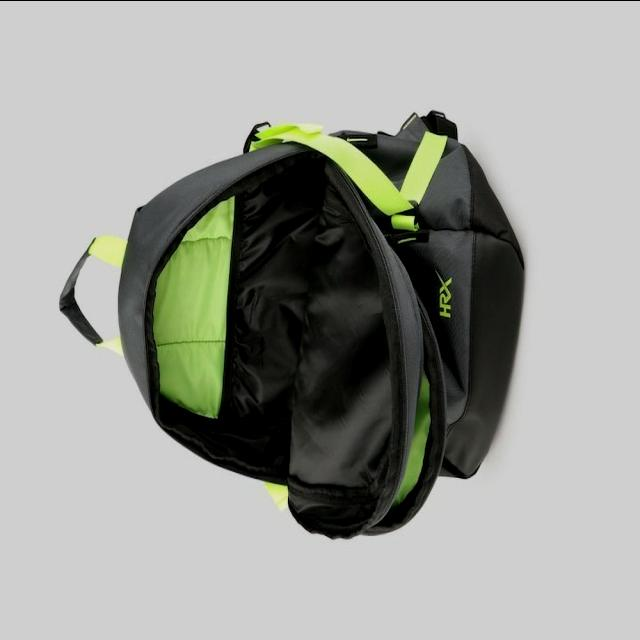backpack: (59, 110, 526, 541)
